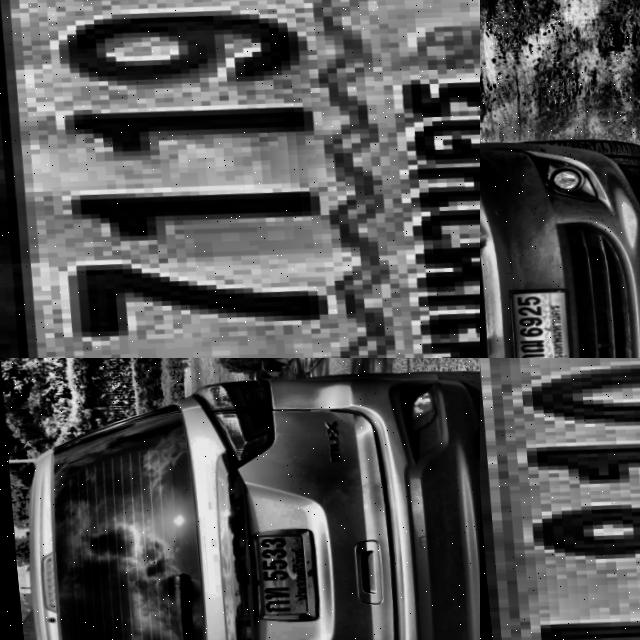license-plate: (0, 0, 480, 358), (480, 358, 640, 640), (239, 529, 314, 625), (497, 290, 570, 358)
